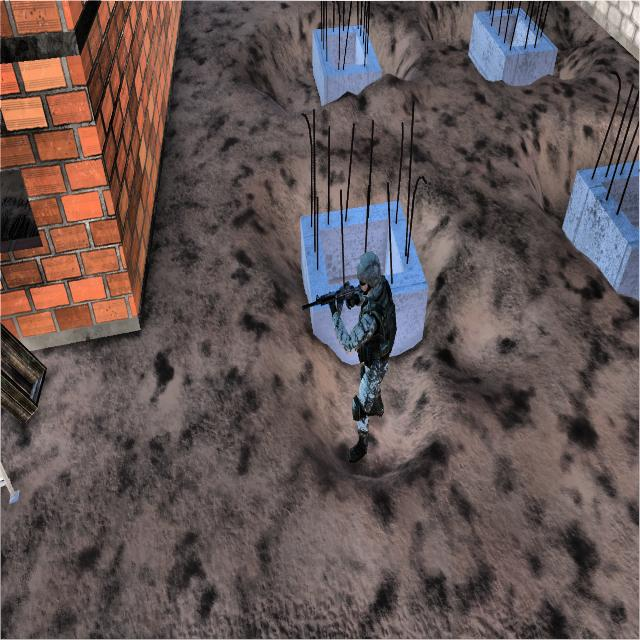bad: (301, 235, 401, 474)
